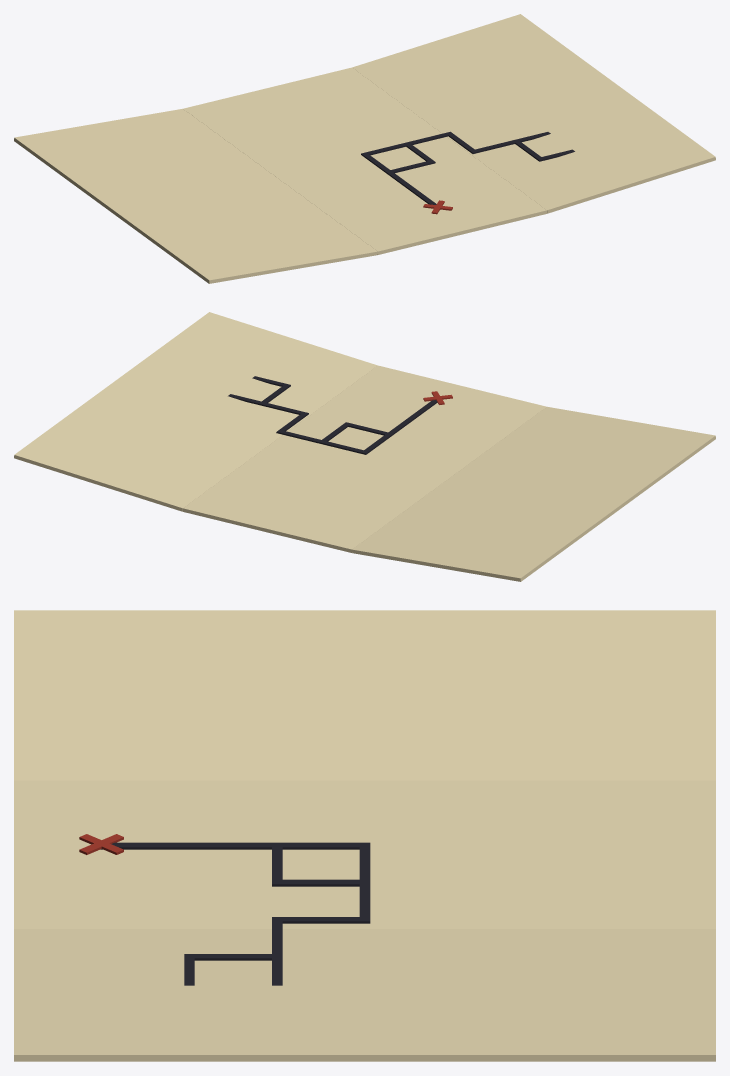
The model's file is Prop_Lab_SurveyMap_A.glb.
3 views of the same model, one above another, from view 1: azimuth 30°, elevation 25°; view 2: azimuth 150°, elevation 25°; view 3: azimuth 270°, elevation 25° (orthographic). The views are drawn at different scales.
Parts seen in each view (by area): view 1: Prop_Lab_SurveyMap_A; view 2: Prop_Lab_SurveyMap_A; view 3: Prop_Lab_SurveyMap_A.
Part boxes in pixels (left/top/right/bottom): Prop_Lab_SurveyMap_A: left=14, top=14, right=715, bottom=283; Prop_Lab_SurveyMap_A: left=14, top=312, right=715, bottom=581; Prop_Lab_SurveyMap_A: left=14, top=610, right=715, bottom=1061.
Size of what is drawn, in the model's own units: 0.5998 by 0.0179 by 0.4.
